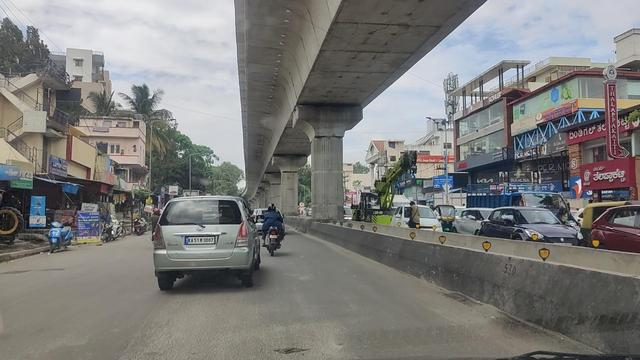LMV: (154, 193, 252, 294), (261, 201, 288, 261)
